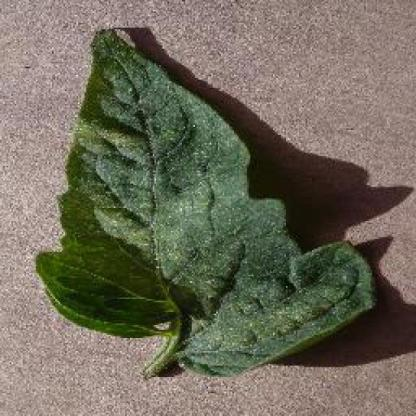Tomato_Spider_Mites: (38, 29, 376, 373)
